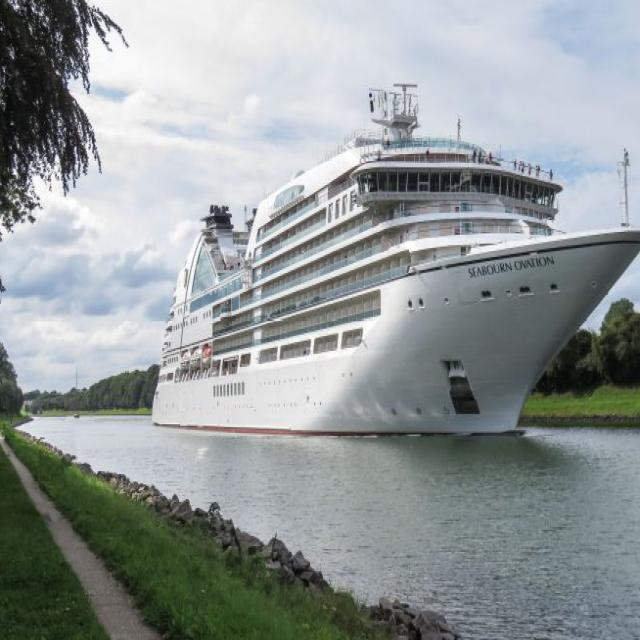cruises: (148, 79, 640, 449)
